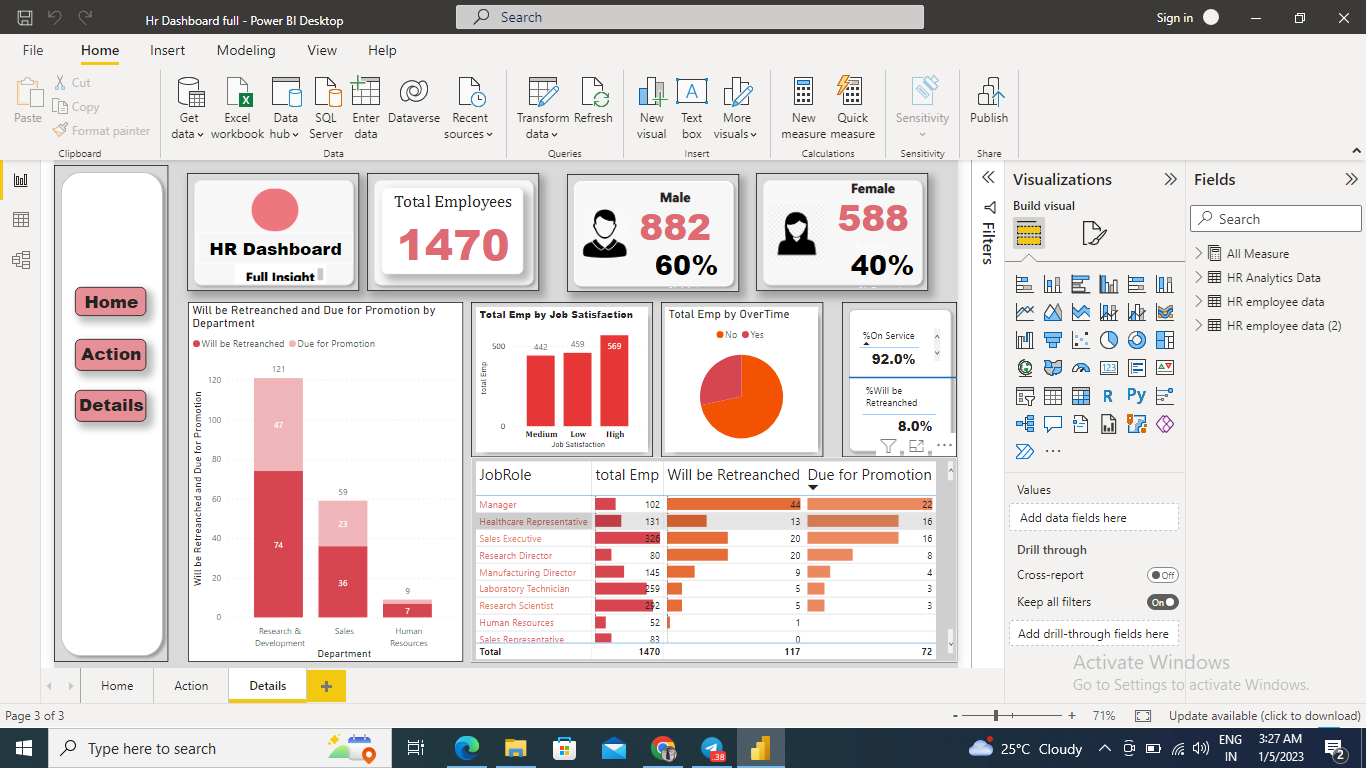

The page's visual inventory and layout, read from the dashboard file:
{"tool":"powerbi","page":{"name":"Details","canvas":[1280,720],"ordinal":2},"visuals":[{"type":"shape","box":[0,7.1,161.6,704.4],"z":0},{"type":"shape","box":[188.5,18.4,243.8,167.2],"z":1000},{"type":"shape","box":[443.6,18.4,243.8,167.2],"z":2000},{"type":"shape","box":[727.1,19.8,243.8,167.2],"z":3000},{"type":"shape","box":[995,18.4,243.8,167.2],"z":4000},{"type":"textbox","box":[202.7,102,221.1,45.4],"z":5000},{"type":"shape","box":[279.2,39.7,68,62.4],"z":6000},{"type":"textbox","box":[256.5,147.4,129,28.3],"z":7000},{"type":"card","title":"Total Employees","fields":{"Values":["All Measure.total Emp"]},"box":[464.9,39.7,199.8,121.9],"z":8000},{"type":"card","title":"Male","fields":{"Values":["All Measure.Male"]},"box":[809.3,39.7,141.7,102],"z":9000},{"type":"card","title":"Female","fields":{"Values":["All Measure.Female"]},"box":[1089.9,26.9,141.7,102],"z":10000},{"type":"card","title":"Male","fields":{"Values":["All Measure.% Male"]},"box":[839.1,129,114.8,56.7],"z":11000},{"type":"card","title":"Male","fields":{"Values":["All Measure.% Female"]},"box":[1116.9,129,114.8,56.7],"z":12000},{"type":"image","box":[1007.7,51,89.3,102],"z":13000},{"type":"image","box":[741.3,59.5,79.4,87.9],"z":14000},{"type":"columnChart","fields":{"Category":["HR Analytics Data.Department"],"Y":["All Measure.Will be Retreanched","All Measure.Due for Promotion"]},"box":[189.9,201.3,389.8,510.2],"z":15000},{"type":"shape","box":[591,201.3,258,219.7],"z":16000},{"type":"shape","box":[860.3,201.3,229.6,219.7],"z":17000},{"type":"shape","box":[1116.9,201.3,163,219.7],"z":18000},{"type":"shape","box":[1126.8,185.7,153.1,245.2],"z":19000},{"type":"columnChart","title":"Total Emp by Job Satisfaction","fields":{"Category":["HR Analytics Data.Job Satisfaction"],"Y":["All Measure.total Emp"]},"box":[598.1,208.3,243.8,205.5],"z":20000},{"type":"pieChart","title":"Total Emp by OverTime","fields":{"Category":["HR Analytics Data.OverTime"],"Y":["All Measure.total Emp"]},"box":[866,208.3,216.9,205.5],"z":21000},{"type":"tableEx","fields":{"Values":["HR Analytics Data.JobRole","All Measure.total Emp","All Measure.Will be Retreanched","All Measure.Due for Promotion"]},"box":[591,420.9,688.8,290.6],"z":22000},{"type":"tableEx","fields":{"Values":["All Measure.%On Service"]},"box":[1135.3,233.9,126.1,65.2],"z":23000},{"type":"tableEx","fields":{"Values":["All Measure.%Will be Retreanched"]},"box":[1139.5,311.8,126.1,90.7],"z":24000},{"type":"actionButton","title":"Home","box":[29.8,180,100.6,41.1],"z":25000},{"type":"actionButton","title":"Action","box":[29.8,253.7,100.6,45.4],"z":26000},{"type":"actionButton","title":"Details","box":[29.8,326,100.6,45.4],"z":27000}]}

Visuals, with their boxes on the page's 1280x720 design canvas (x1, y1, x2, y2). These are canvas units, not pixel positions in the 1366x768 screenshot, which may show the page scaled, cropped or inside an application window:
shape: <bbox>0, 7, 162, 712</bbox>
shape: <bbox>188, 18, 432, 186</bbox>
shape: <bbox>444, 18, 687, 186</bbox>
shape: <bbox>727, 20, 971, 187</bbox>
shape: <bbox>995, 18, 1239, 186</bbox>
textbox: <bbox>203, 102, 424, 147</bbox>
shape: <bbox>279, 40, 347, 102</bbox>
textbox: <bbox>256, 147, 386, 176</bbox>
"Total Employees" card: <bbox>465, 40, 665, 162</bbox>
"Male" card: <bbox>809, 40, 951, 142</bbox>
"Female" card: <bbox>1090, 27, 1232, 129</bbox>
"Male" card: <bbox>839, 129, 954, 186</bbox>
"Male" card: <bbox>1117, 129, 1232, 186</bbox>
image: <bbox>1008, 51, 1097, 153</bbox>
image: <bbox>741, 60, 821, 147</bbox>
columnChart - HR Analytics Data.Department x All Measure.Will be Retreanched: <bbox>190, 201, 580, 712</bbox>
shape: <bbox>591, 201, 849, 421</bbox>
shape: <bbox>860, 201, 1090, 421</bbox>
shape: <bbox>1117, 201, 1280, 421</bbox>
shape: <bbox>1127, 186, 1280, 431</bbox>
"Total Emp by Job Satisfaction" columnChart: <bbox>598, 208, 842, 414</bbox>
"Total Emp by OverTime" pieChart: <bbox>866, 208, 1083, 414</bbox>
tableEx - HR Analytics Data.JobRole x All Measure.total Emp: <bbox>591, 421, 1280, 712</bbox>
tableEx - All Measure.%On Service: <bbox>1135, 234, 1261, 299</bbox>
tableEx - All Measure.%Will be Retreanched: <bbox>1140, 312, 1266, 402</bbox>
"Home" actionButton: <bbox>30, 180, 130, 221</bbox>
"Action" actionButton: <bbox>30, 254, 130, 299</bbox>
"Details" actionButton: <bbox>30, 326, 130, 371</bbox>
